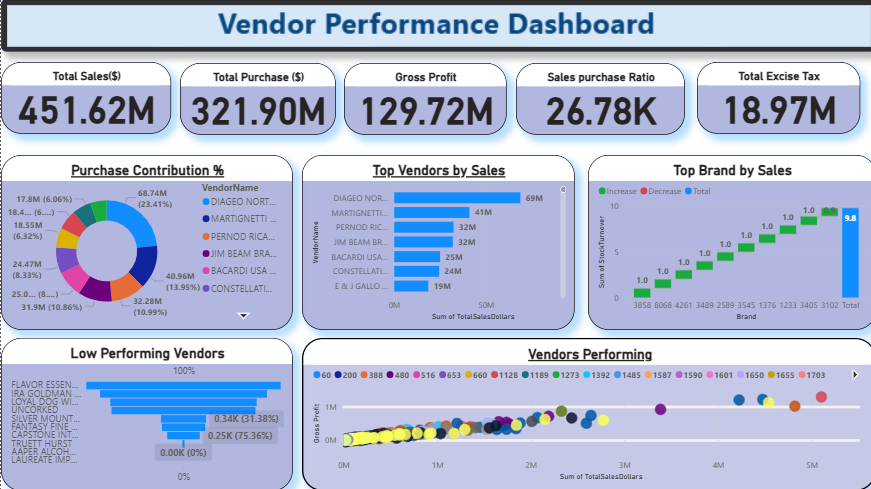

Layout of this report page (visuals, bound fields, positions):
{"tool":"powerbi","page":{"name":"Page 1","canvas":[1280,720],"ordinal":0},"visuals":[{"type":"image","box":[0,0,1280.5,77],"z":0},{"type":"card","title":"Total Sales($)","fields":{"Values":["vendor_sales_summary.TotalSalesDollars"]},"box":[0,92.2,248.8,105.4],"z":1000},{"type":"card","title":"Sales purchase Ratio","fields":{"Values":["vendor_sales_summary.SalesToPurchaseRatio"]},"box":[753.9,92.9,247.3,104.9],"z":2000},{"type":"card","title":"Total Excise Tax","fields":{"Values":["vendor_sales_summary.TotalExciseTax"]},"box":[1018.5,92.2,238.5,105.4],"z":3000},{"type":"card","title":"Total Purchase ($)","fields":{"Values":["vendor_sales_summary.TotalPurchaseDollars"]},"box":[262.3,92.9,227.8,104.9],"z":4000},{"type":"card","title":"Gross Profit","fields":{"Values":["vendor_sales_summary.GrossProfit"]},"box":[502.1,92.9,238.3,104.9],"z":5000},{"type":"donutChart","title":"Purchase Contribution %","fields":{"Y":["vendor_sales_summary.TotalSalesDollars"],"Category":["vendor_sales_summary.VendorName"]},"box":[0,227.6,427.3,255.6],"z":6000},{"type":"clusteredBarChart","title":"Top Vendors by Sales","fields":{"Category":["vendor_sales_summary.VendorName"],"Y":["vendor_sales_summary.TotalSalesDollars"]},"box":[440.3,227.6,399.3,255.6],"z":7000},{"type":"waterfallChart","title":"Top Brand by Sales","fields":{"Category":["vendor_sales_summary.Brand"],"Y":["vendor_sales_summary.StockTurnover"]},"box":[858.3,227.6,421.7,255.6],"z":8000},{"type":"funnel","title":"Low Performing Vendors","fields":{"Y":["vendor_sales_summary.TotalSalesDollars"],"Category":["vendor_sales_summary.VendorName"]},"box":[0,496.3,427.3,223.9],"z":9000},{"type":"scatterChart","title":"Vendors Performing","fields":{"X":["vendor_sales_summary.TotalSalesDollars"],"Y":["vendor_sales_summary.Gross Profit"],"Category":["vendor_sales_summary.Brand"],"Series":["vendor_sales_summary.VendorNumber"]},"box":[440.3,496.3,839.7,223.9],"z":10000}]}

Visuals, with their boxes in screenshot pixels (x1, y1, x2, y2), scaled from the page's 1280x720 canvas onto the 871x489 screenshot:
image: l=0, t=0, r=870, b=52
"Total Sales($)" card: l=0, t=63, r=169, b=134
"Sales purchase Ratio" card: l=513, t=63, r=681, b=134
"Total Excise Tax" card: l=693, t=63, r=855, b=134
"Total Purchase ($)" card: l=178, t=63, r=333, b=134
"Gross Profit" card: l=342, t=63, r=504, b=134
"Purchase Contribution %" donutChart: l=0, t=155, r=291, b=328
"Top Vendors by Sales" clusteredBarChart: l=300, t=155, r=571, b=328
"Top Brand by Sales" waterfallChart: l=584, t=155, r=870, b=328
"Low Performing Vendors" funnel: l=0, t=337, r=291, b=488
"Vendors Performing" scatterChart: l=300, t=337, r=870, b=488
